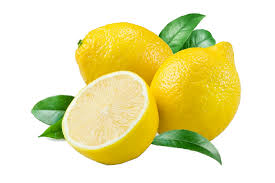Lemon: (144, 28, 246, 153), (72, 17, 172, 98)
